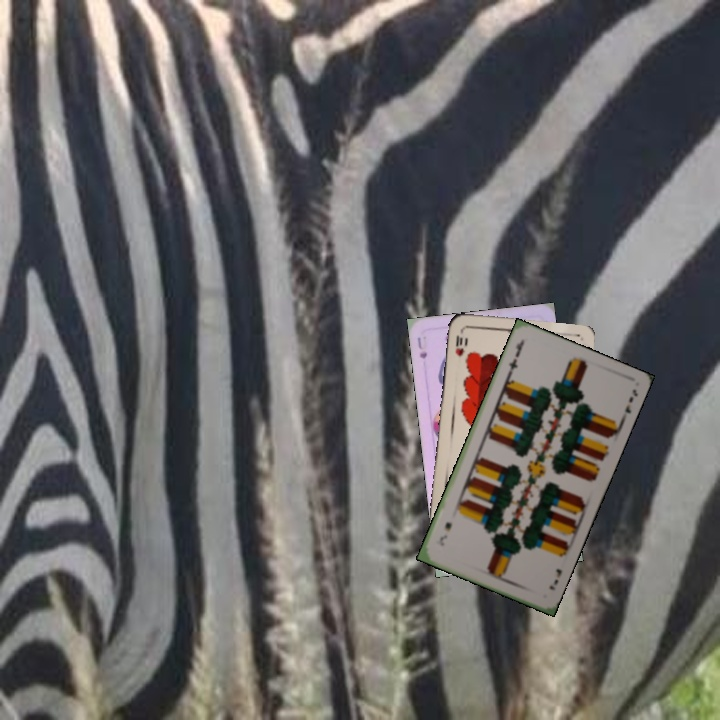E7: (504, 337, 526, 376), (545, 565, 564, 593)
H10: (451, 327, 467, 359)
SU: (413, 333, 430, 361)
